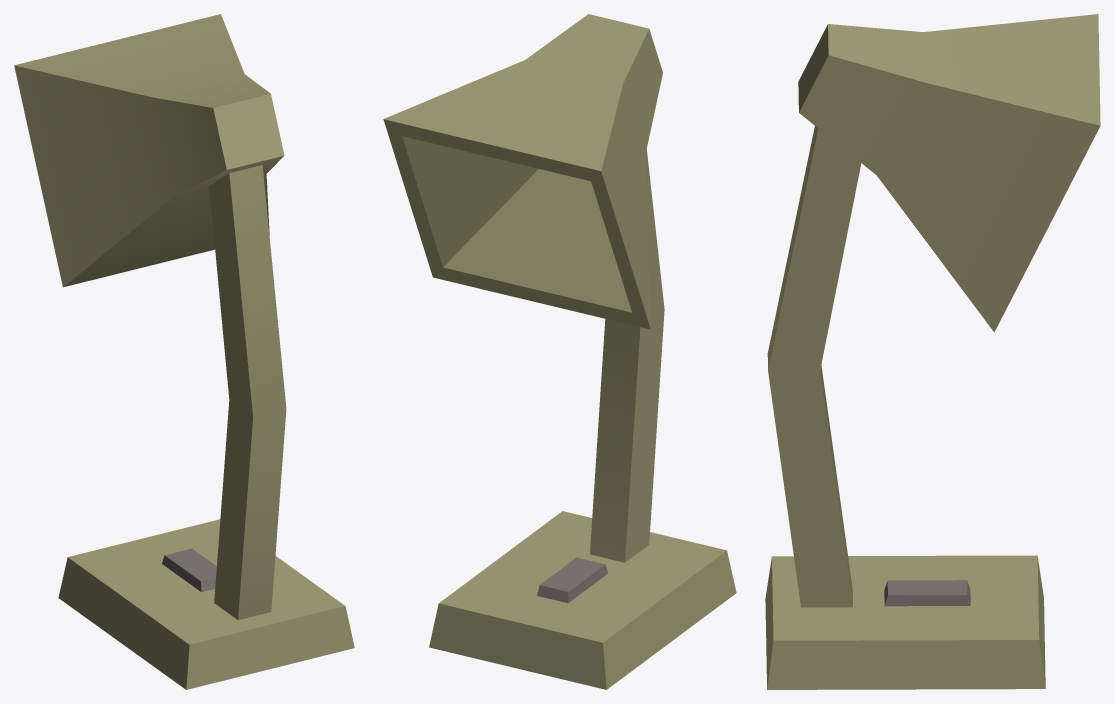
File: SM_Lamp_01.fbx
3 views of the same model, side by side, from view 1: azimuth 30°, elevation 25°; view 2: azimuth 150°, elevation 25°; view 3: azimuth 270°, elevation 25° (orthographic). The views are drawn at different scales.
Parts seen in each view (by area): view 1: SM_Lamp_01; view 2: SM_Lamp_01; view 3: SM_Lamp_01.
Boxes of the visible parts, x1=… form: SM_Lamp_01: x1=14, y1=14, x2=354, y2=689; SM_Lamp_01: x1=383, y1=14, x2=736, y2=689; SM_Lamp_01: x1=765, y1=14, x2=1100, y2=689.
Size of the model in its own units: 24.53 by 61.6 by 30.95.
1 material, 1 textured.
